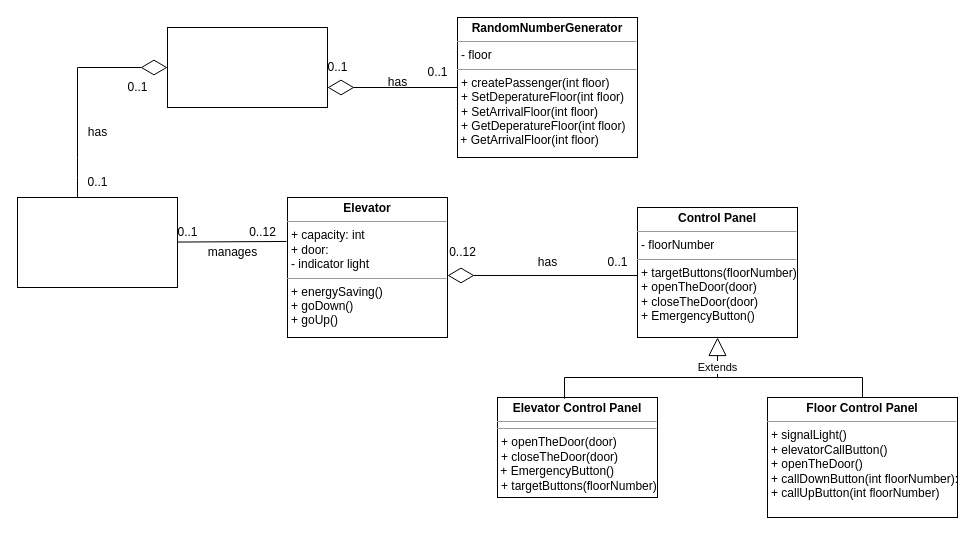
The diagram is 975 pixels wide and 535 high, and some of its shapes have lost their labels. Here are the shapes that lost their labels. From the top down, the centre of each, then its label:
point (247, 67): Elevator Simulator + timer():
point (97, 242): Programmer + getLocationElevators() + getFloorRequest()
